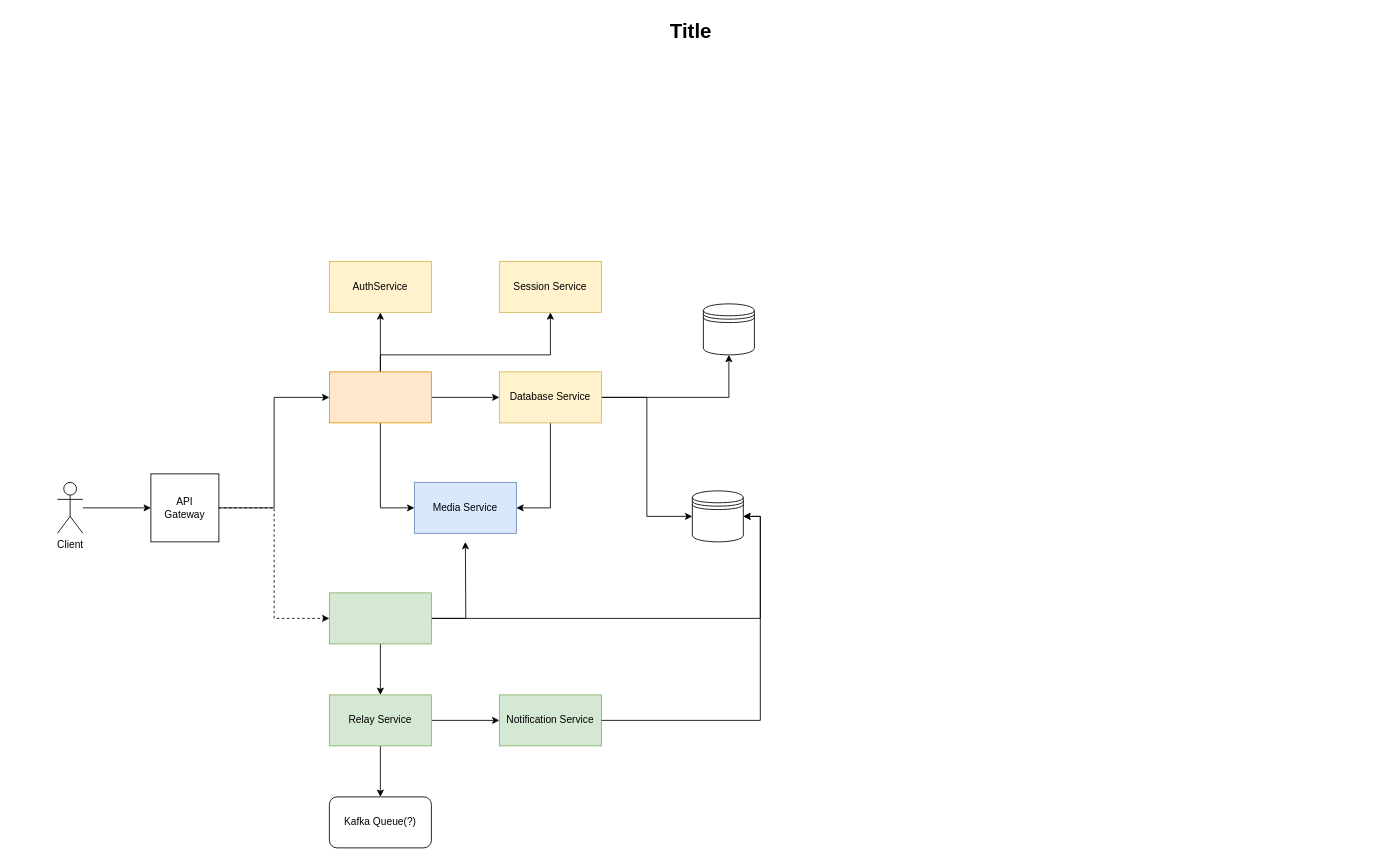
This 1380x863 diagram has some shape labels left out. Here are the shapes that lost their labels. From the top down, the centre of each, then its label:
At point (728, 329): "GraphDB".
At point (380, 397): "User Service".
At point (717, 516): "SQL".
At point (380, 618): "Chat Service".
